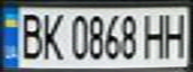0: (66, 11, 87, 61)
6: (103, 11, 124, 61)
8: (118, 11, 142, 61), (87, 11, 106, 61)
B: (15, 10, 45, 61)
H: (139, 10, 172, 60), (160, 9, 193, 58)
K: (36, 10, 66, 61)
